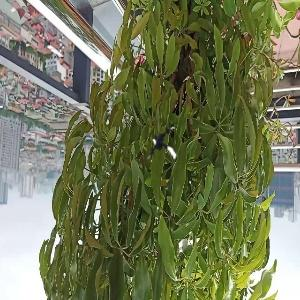drone: (142, 126, 187, 171)
